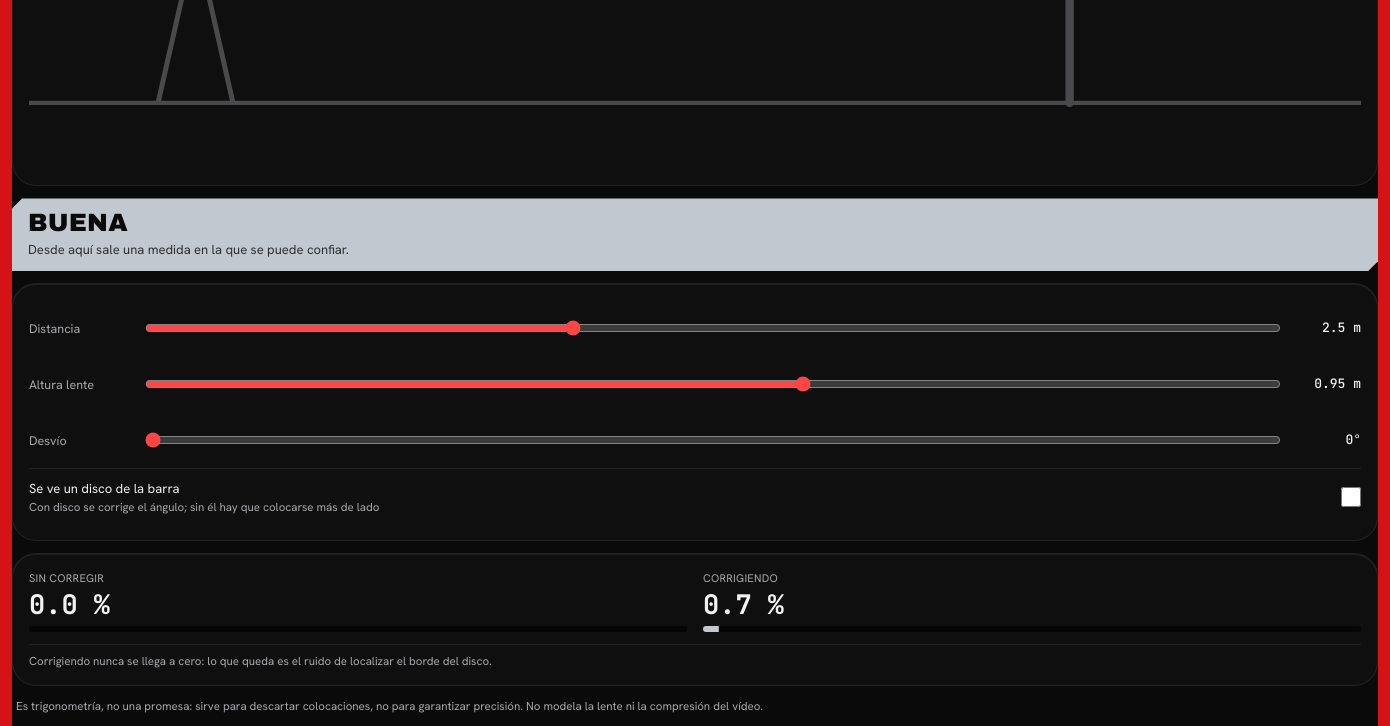
los controles mueven la geometría › bajar la lente al suelo cambia el veredicto
This screenshot has width=1390, height=726.
(page scrolled)
Expected: the text "Buena" is shown, [28,209,128,236]
Step 1. Set the slider labelled "Altura lente" to "0.05" → (153, 384), box [145,362,1281,406]
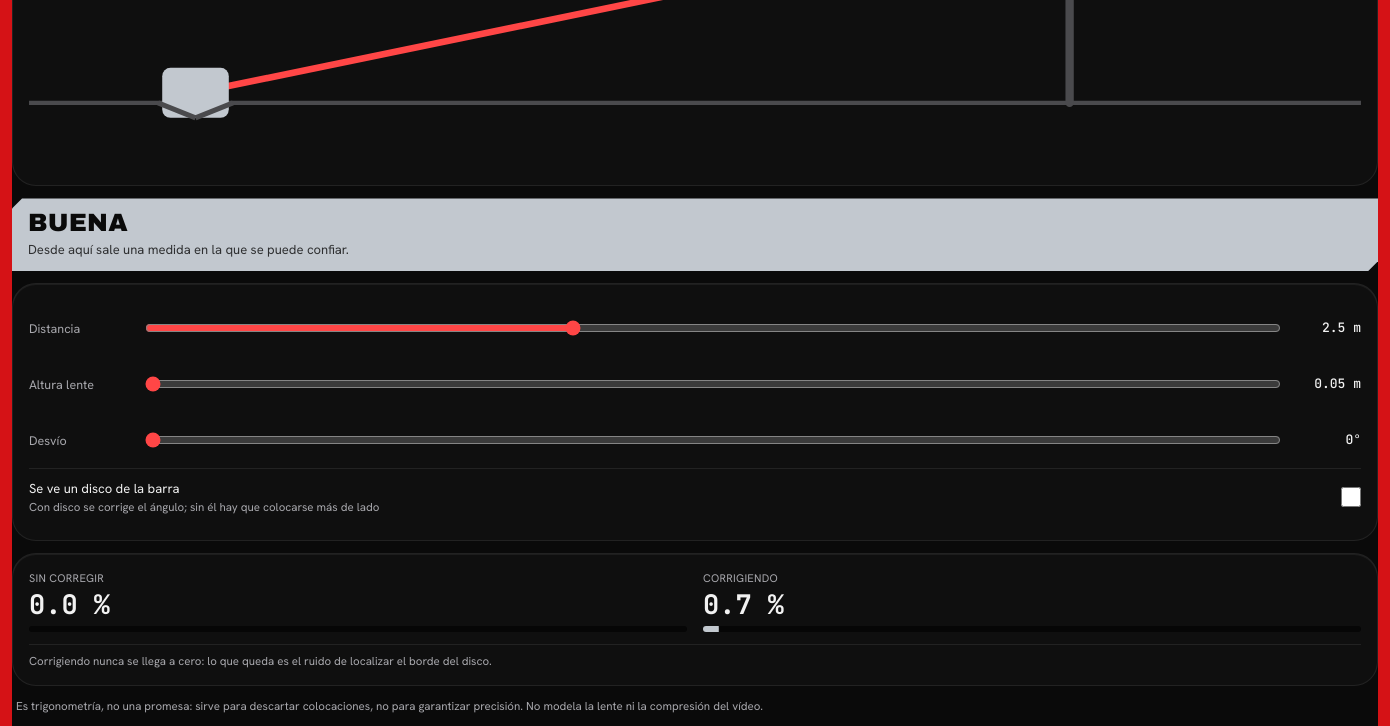
Step 2. Set the slider labelled "Distancia" to "1" → (153, 328), box [145,306,1281,350]
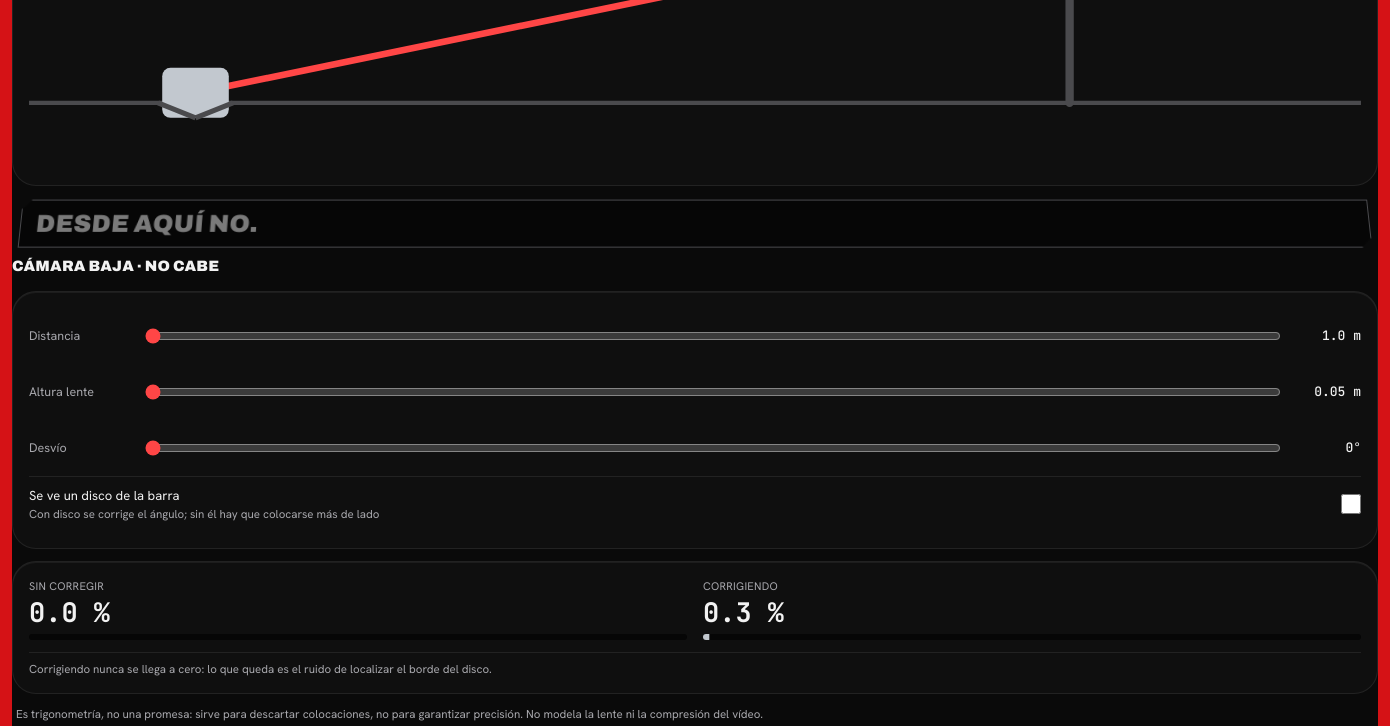
Expected: the text "Buena" is gone
Expected: the text "Desde aquí no." is shown, [35,211,259,237]
